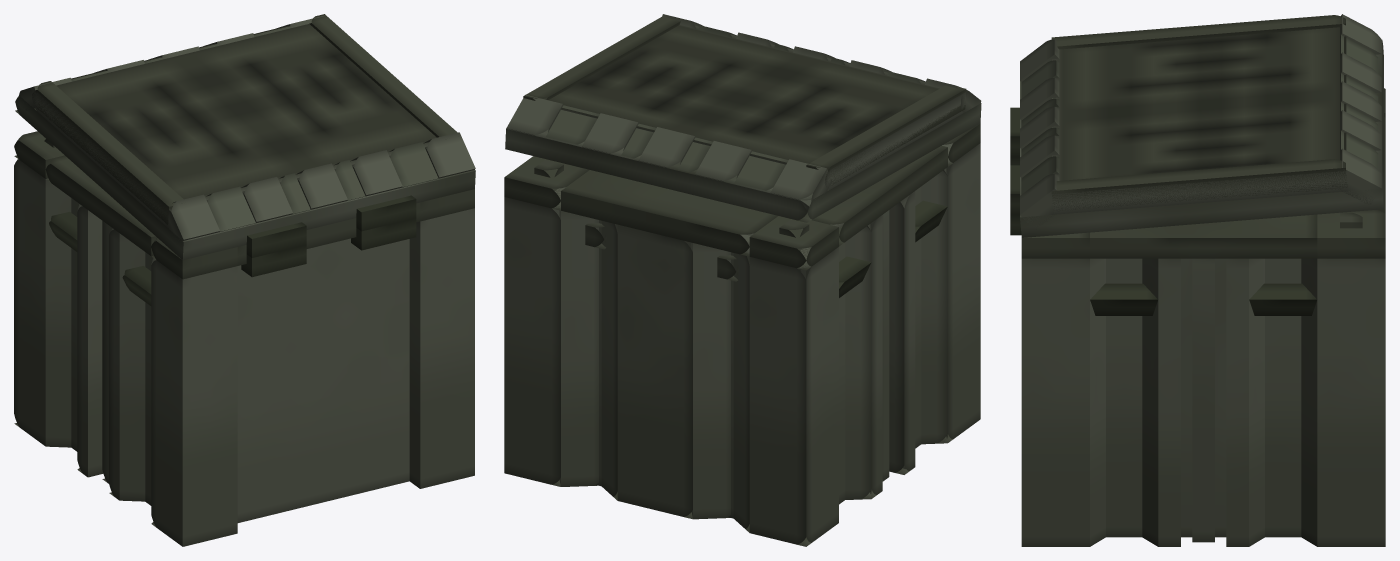
File: military_crate.obj
3 views of the same model, side by side, from view 1: azimuth 30°, elevation 25°; view 2: azimuth 150°, elevation 25°; view 3: azimuth 270°, elevation 25° (orthographic). The views are drawn at different scales.
Parts seen in each view (by area): view 1: oC, nO, nx, oB, nA, nN, nV, nJ, nI, nQ, ov, nS (+23 smaller); view 2: nO, nA, nD, oA, nN, nF, oy, nx, ot, nz, nK, nH (+25 smaller); view 3: nO, oA, oB, oG, oH, nN, oT, nS, oR, oI, oK, oJ (+25 smaller).
Part boxes in pixels (box(x1,y1,x2,y2)): oC: box(237, 238, 409, 522); nO: box(32, 24, 436, 227); nx: box(151, 259, 237, 546); oB: box(409, 208, 474, 488); nA: box(14, 159, 45, 446); nN: box(15, 96, 475, 260); nV: box(77, 205, 103, 477); nJ: box(45, 178, 71, 447); nI: box(119, 233, 145, 501); nQ: box(32, 81, 183, 224); ov: box(45, 155, 156, 256); nS: box(309, 14, 457, 137); nO: box(541, 25, 966, 191); nA: box(749, 247, 838, 546); nD: box(617, 224, 692, 519); oA: box(504, 187, 565, 486); nN: box(505, 103, 981, 222); nF: box(691, 242, 730, 519); oy: box(559, 208, 598, 486); nx: box(941, 143, 980, 443); ot: box(561, 170, 777, 256); nz: box(889, 191, 915, 474); nK: box(845, 223, 871, 499); nH: box(921, 168, 947, 444); nO: box(1052, 27, 1347, 214); oA: box(1317, 258, 1385, 546); oB: box(1021, 258, 1089, 546); oG: box(1106, 258, 1142, 537); oH: box(1265, 258, 1301, 537); nN: box(1020, 40, 1383, 237); oT: box(1090, 214, 1317, 258); nS: box(1051, 159, 1347, 210); oR: box(1181, 258, 1226, 537); oI: box(1158, 258, 1180, 546); oK: box(1226, 258, 1248, 546); oJ: box(1192, 258, 1214, 542).
Size of the model in its own units: 1 by 1.16 by 1.03.
1 material, 1 textured.
